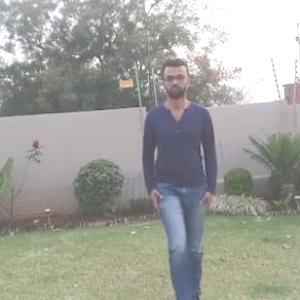follow: (140, 56, 221, 299)
